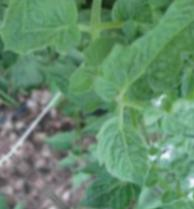Tomato leaf mosaic virus: (78, 14, 194, 132), (0, 0, 105, 121), (76, 103, 170, 197), (154, 89, 194, 158), (63, 57, 104, 99), (100, 0, 145, 35)
